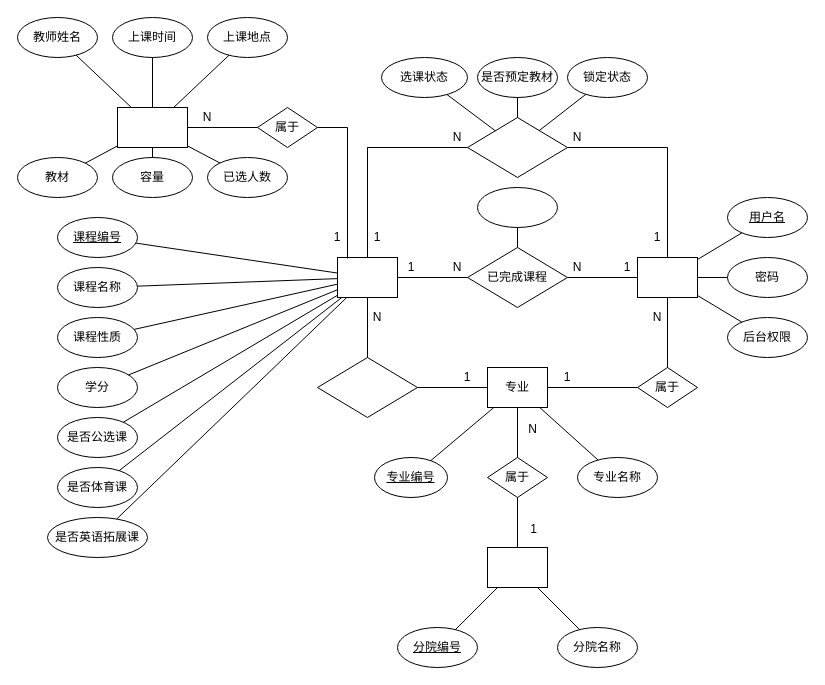
This 825x685 diagram has some shape labels left out. The centre of each missing label's shape, as x and y in pixels:
"仓库内课程" goes at (x=517, y=147).
"分数" goes at (x=517, y=207).
"分院" goes at (x=517, y=567).
"教学班" goes at (x=152, y=127).
"用户" goes at (x=667, y=277).
"计划内课程" goes at (x=367, y=387).
"课程" goes at (x=367, y=277).
